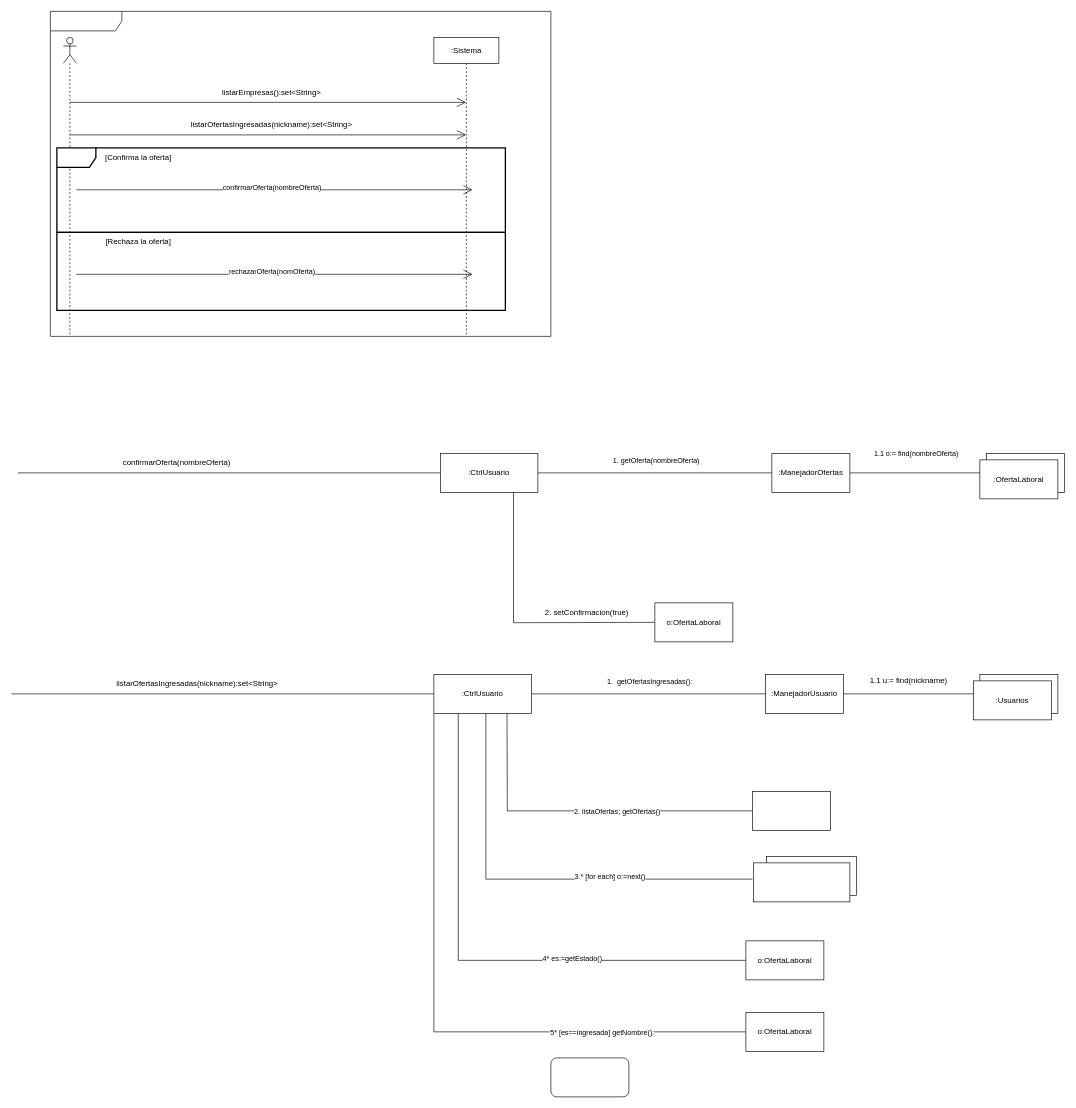
Some shapes in this 1076 by 1108 pixel diagram are drawn without their labels. The shapes that lost their labels are listed below. From the top down, each one's box as (x1, y1, x2, y2) in pixels, then its label:
(56, 147, 506, 233): ALT
(50, 11, 551, 336): Aceptar/Rechazar Oferta Laboral
(752, 791, 830, 830): u:Empresa
(753, 862, 850, 902): listaOfertas:OfertaLaboral
(550, 1057, 629, 1097): se agregan los nombres al set
